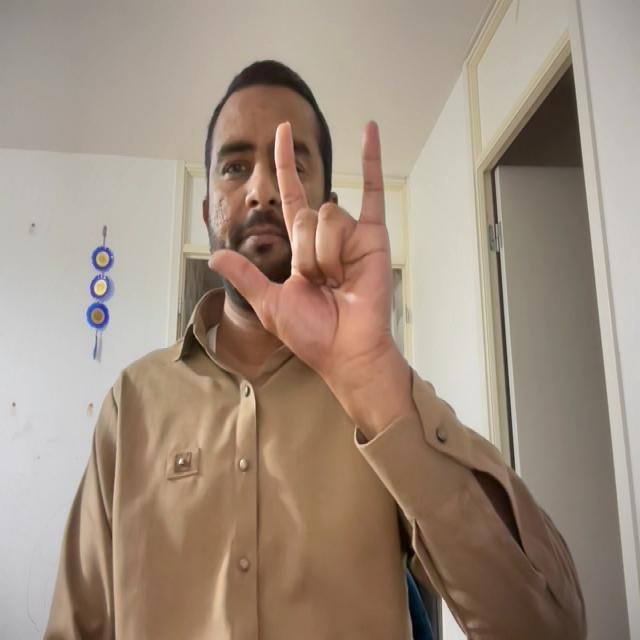IloveYou: (203, 81, 425, 400)
